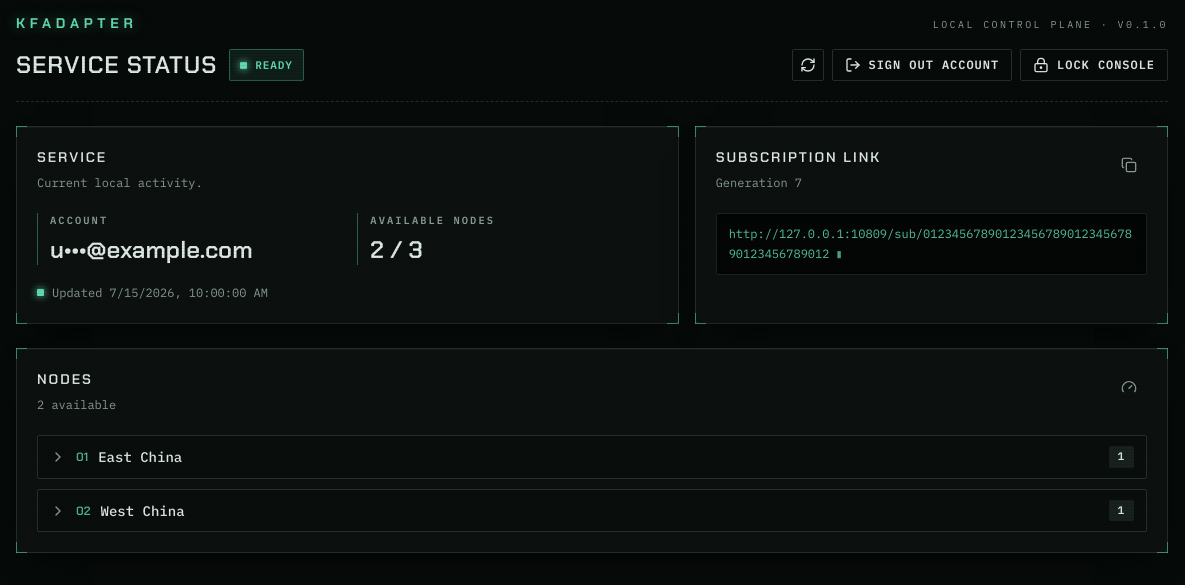
Test: access token and browser session › signs out the provider account and locks the console
The width and height of the screenshot is (1185, 585).
Expected: the text "http://127.0.0.1:10809/sub/0123456789012345678901234567890123456789012" is shown, [716,213,1147,275]
Click the button "Sign out account" at (922, 65), box [832,49,1012,81]
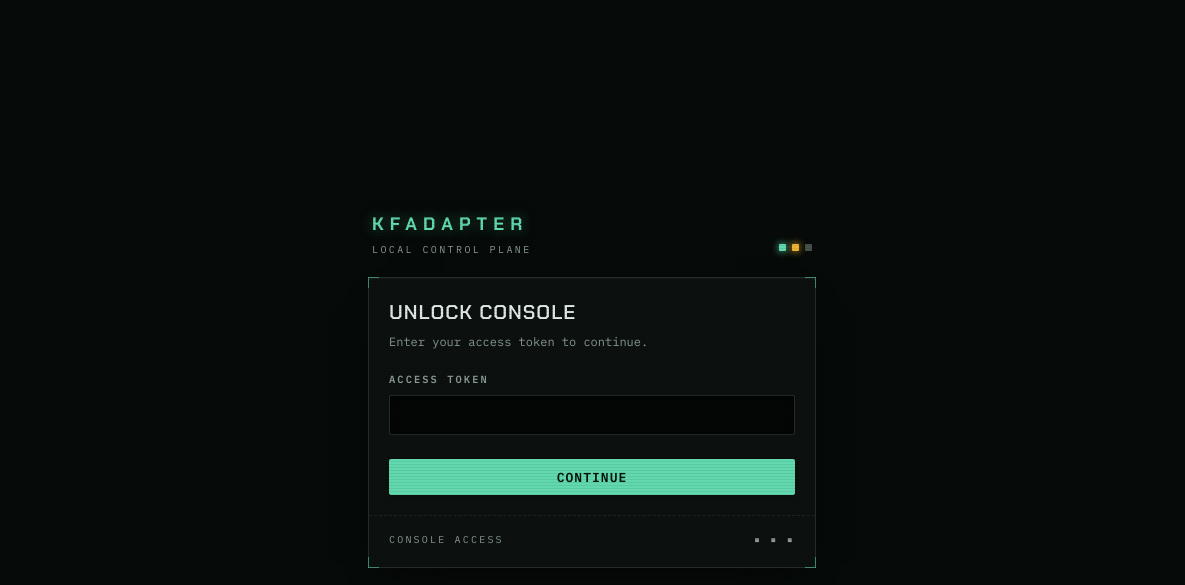
Result: the heading "Unlock console" is shown at [389,299,576,325]
Result: the text "http://127.0.0.1:10809/sub/0123456789012345678901234567890123456789012" is gone
